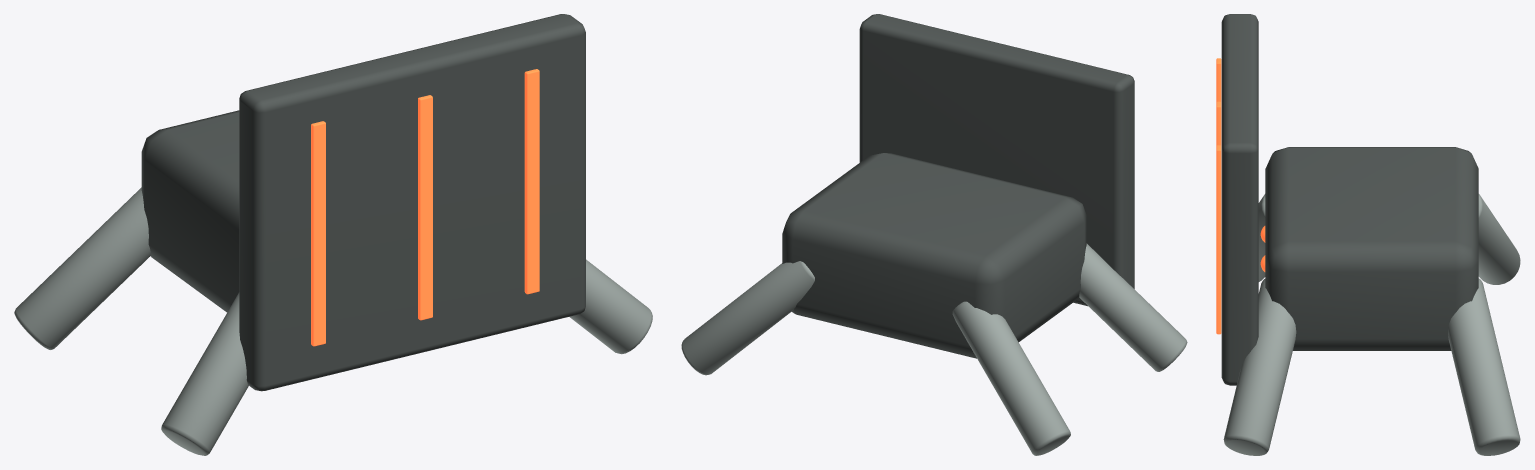
Rendered from card_tank.glb.
The picture shows the model from 3 angles, left to right: view 1: azimuth 30°, elevation 25°; view 2: azimuth 150°, elevation 25°; view 3: azimuth 270°, elevation 25°; orthographic projection. The views are drawn at different scales.
Parts seen in each view (by area): view 1: card_tank; view 2: card_tank; view 3: card_tank.
Part boxes in pixels (box(x1,y1,x2,y2)): card_tank: box(14, 14, 652, 455); card_tank: box(681, 14, 1187, 455); card_tank: box(1216, 14, 1520, 455).
Size of the model in its own units: 2.4 by 1.66 by 1.57.
